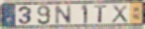1: (80, 4, 89, 25)
3: (16, 6, 34, 26)
9: (36, 5, 52, 26)
N: (54, 4, 73, 25)
T: (94, 4, 109, 23)
X: (111, 4, 129, 24)
